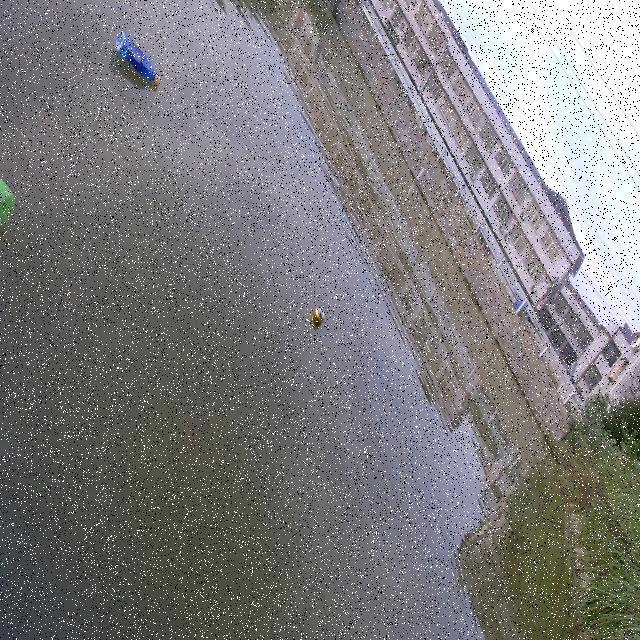Bottle: (112, 27, 164, 90)
Can: (306, 290, 327, 334)
